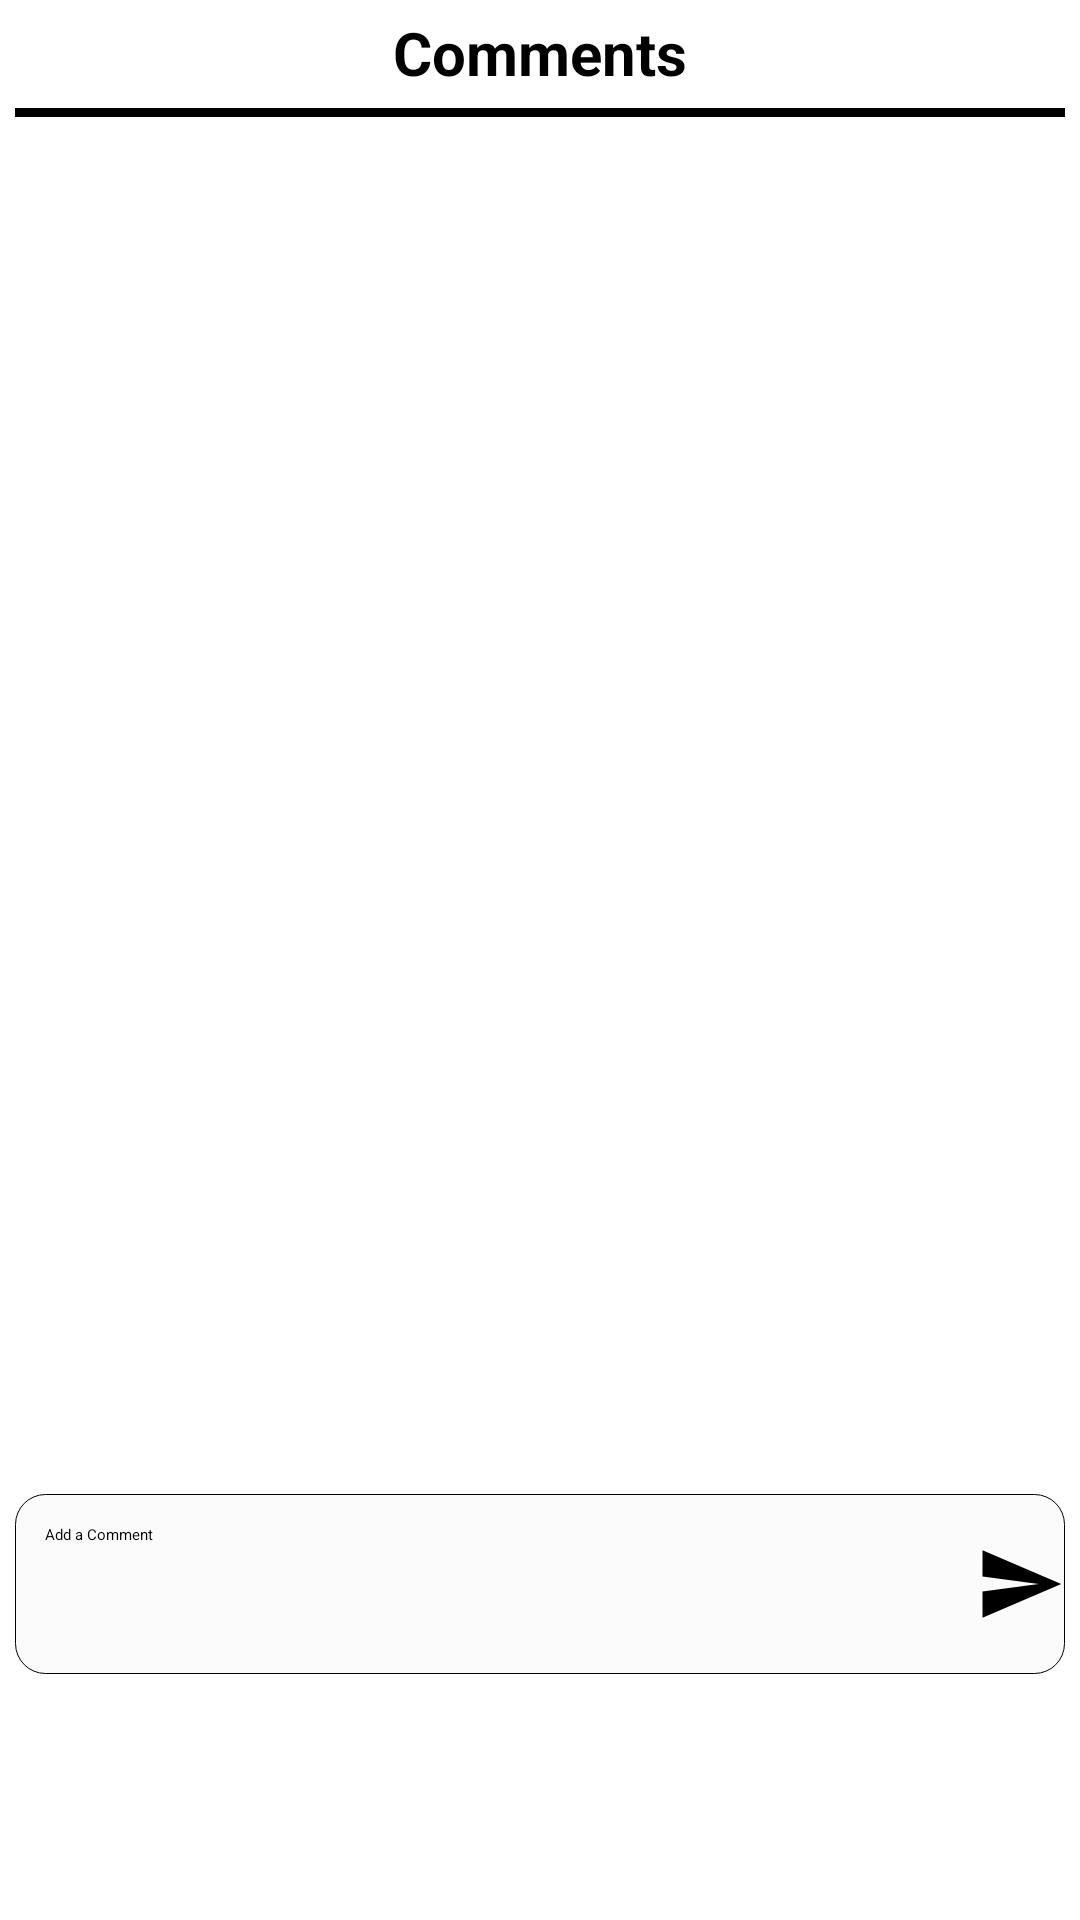

Named icons in this screenshot (1080*1920) and their centers, (x,y):
send: (1021,1584)
